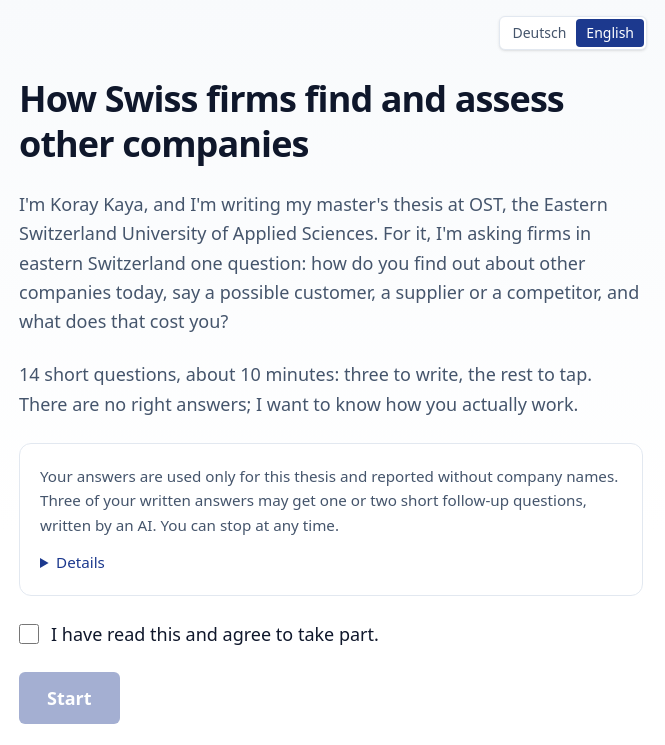
Test: Form › requires consent before starting
Expected: the button "Start" is disabled, [19,672,120,724]
Step 1. Click the checkbox → (29, 634), box [19,624,39,644]
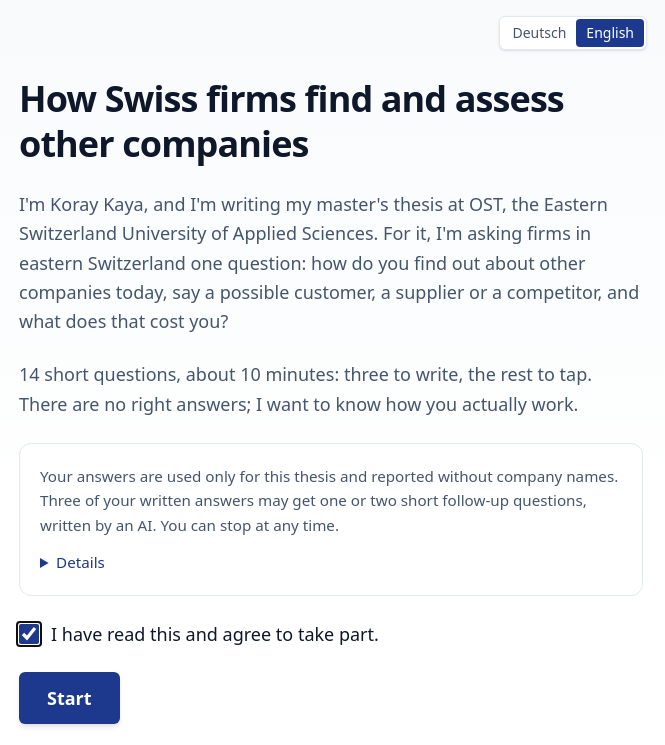
Expected: the button "Start" is enabled, [19,672,120,724]
